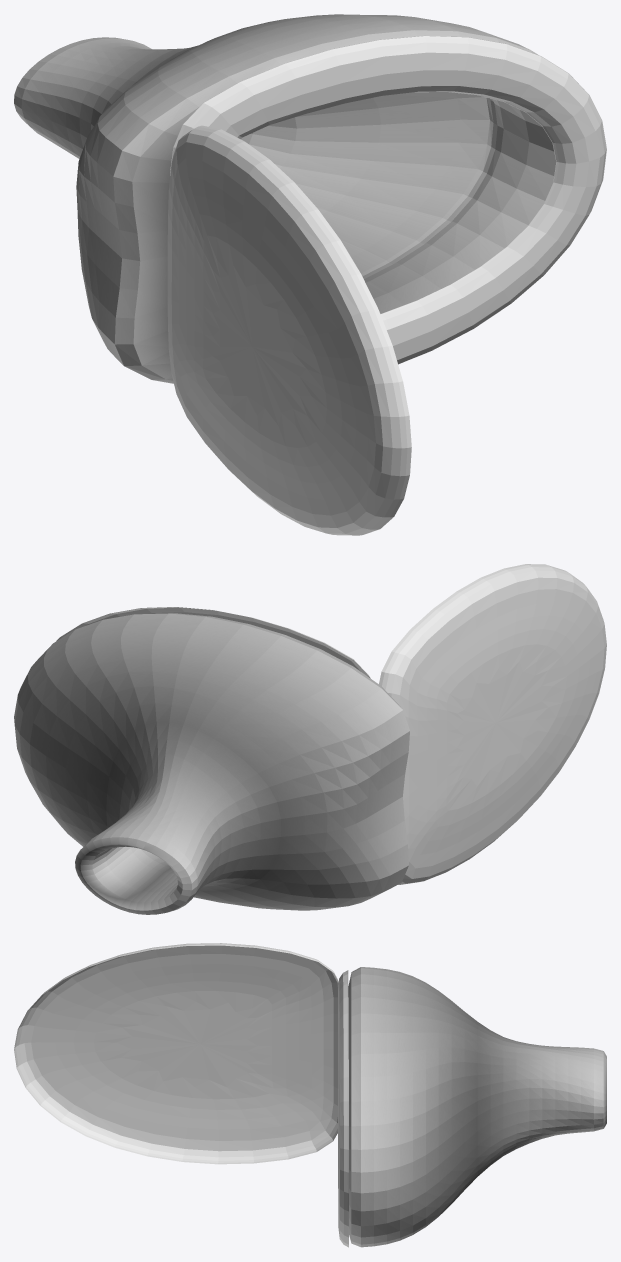
File: toilet.obj
3 views of the same model, one above another, from view 1: azimuth 30°, elevation 25°; view 2: azimuth 150°, elevation 25°; view 3: azimuth 270°, elevation 25° (orthographic). The views are drawn at different scales.
Parts seen in each view (by area): view 1: toilet, wc_board_TOP, wc_board; view 2: toilet, wc_board_TOP, wc_board; view 3: wc_board_TOP, toilet, wc_board.
Part boxes in pixels (x1,y1,x2,y2): toilet: (14, 14, 556, 383); wc_board_TOP: (167, 125, 411, 535); wc_board: (170, 36, 606, 364); toilet: (14, 613, 409, 914); wc_board_TOP: (379, 564, 606, 884); wc_board: (56, 607, 370, 678); wc_board_TOP: (14, 943, 338, 1164); toilet: (348, 967, 606, 1247); wc_board: (338, 970, 348, 1247).
Bounding box in the file's own units: 553 × 365 × 897.
